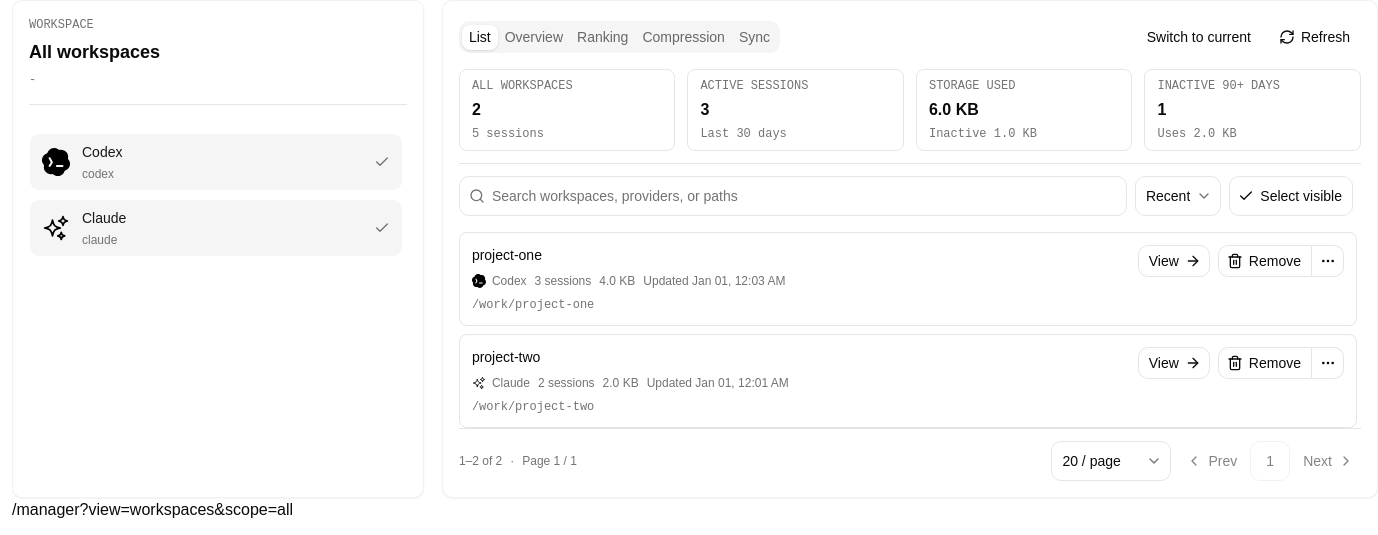
it: ManagerPage interaction model › opens a workspace row in its specified provider workspace scope
Click the link "project-one".
click(507, 255)  # box x1=472 y1=247 x2=542 y2=263
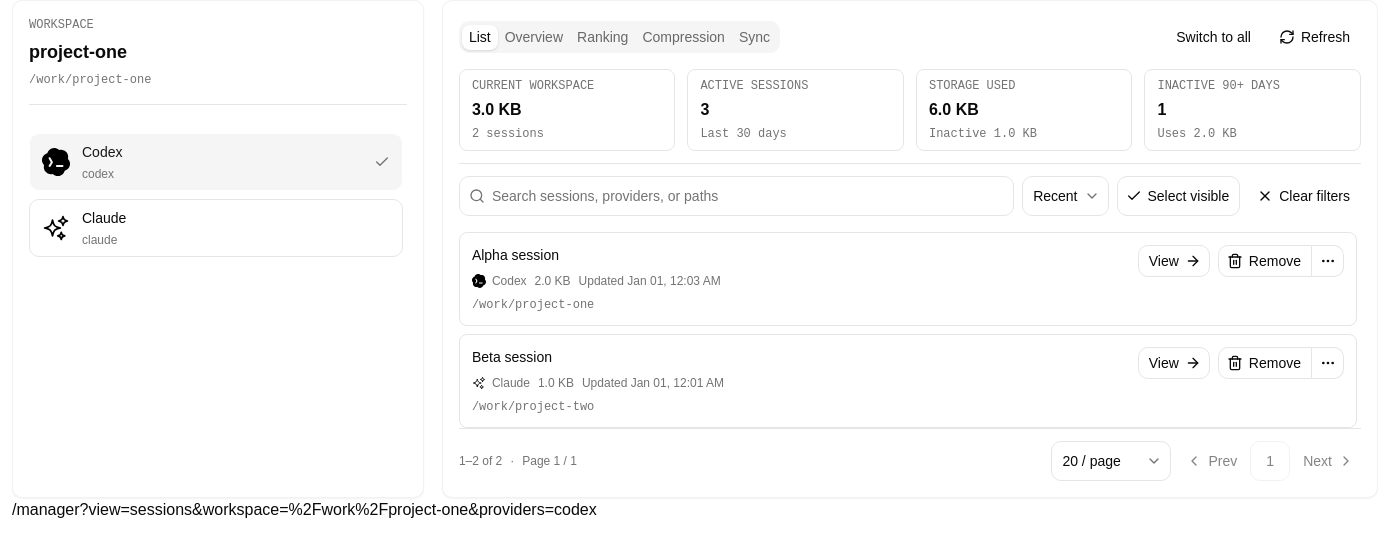
Check: the text "codex" is shown, box x1=82 y1=166 x2=114 y2=180
Check: the 1st text "/work/project-one" is shown, box x1=29 y1=72 x2=151 y2=86
